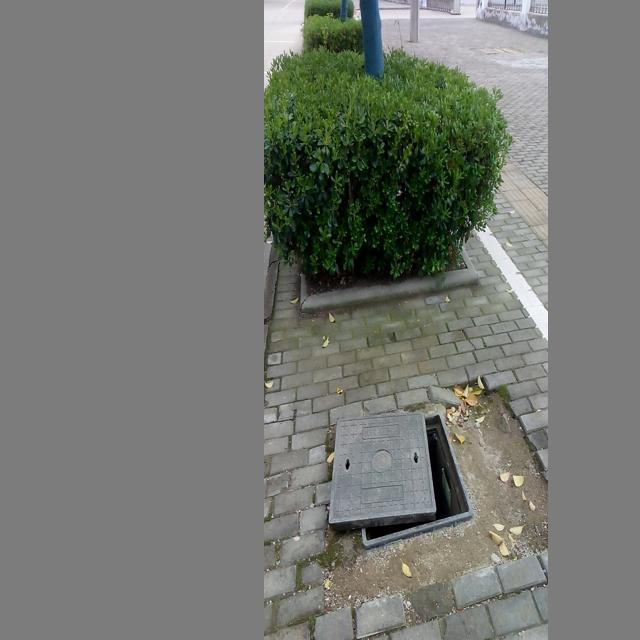uncovered: (327, 406, 474, 546)
